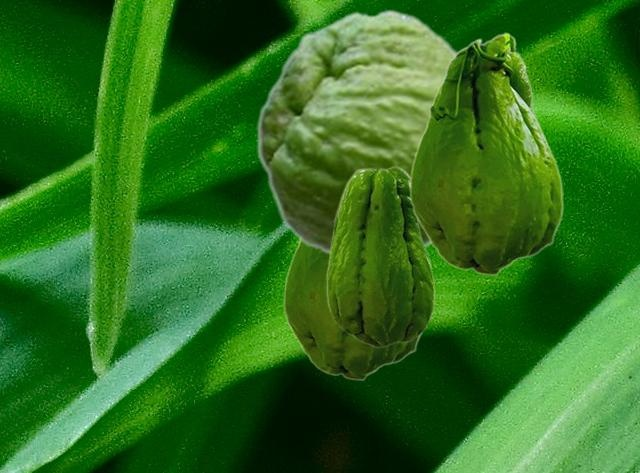sayote: (256, 8, 458, 255), (409, 32, 563, 275), (326, 165, 434, 347), (283, 240, 423, 380)
